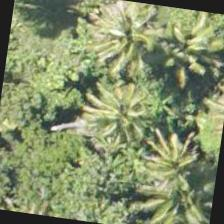Kelapa_Sawit: (66, 67, 168, 169), (71, 0, 172, 87), (114, 141, 216, 223), (134, 3, 223, 95)
